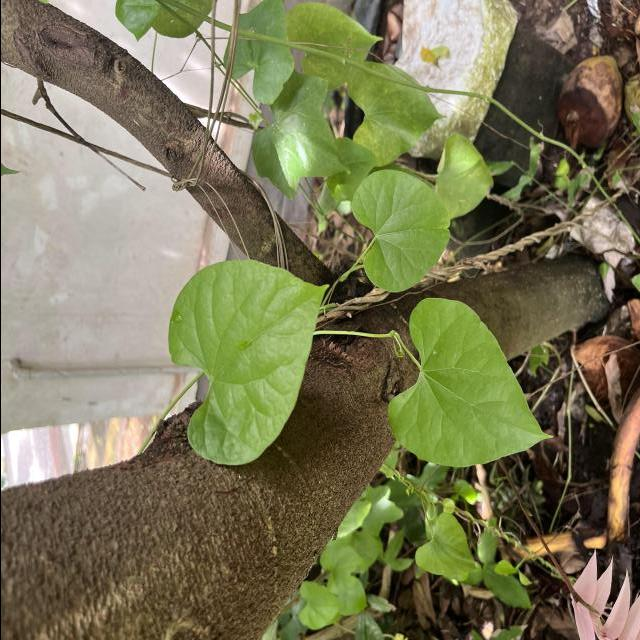Tinospora cordifolia: (162, 252, 332, 470), (382, 294, 554, 471), (347, 166, 454, 296)
